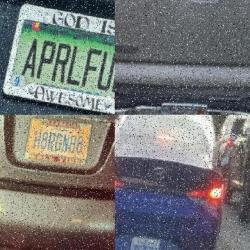LicensePlate: (0, 3, 114, 114), (23, 117, 93, 167), (159, 102, 208, 114), (130, 237, 161, 250)
